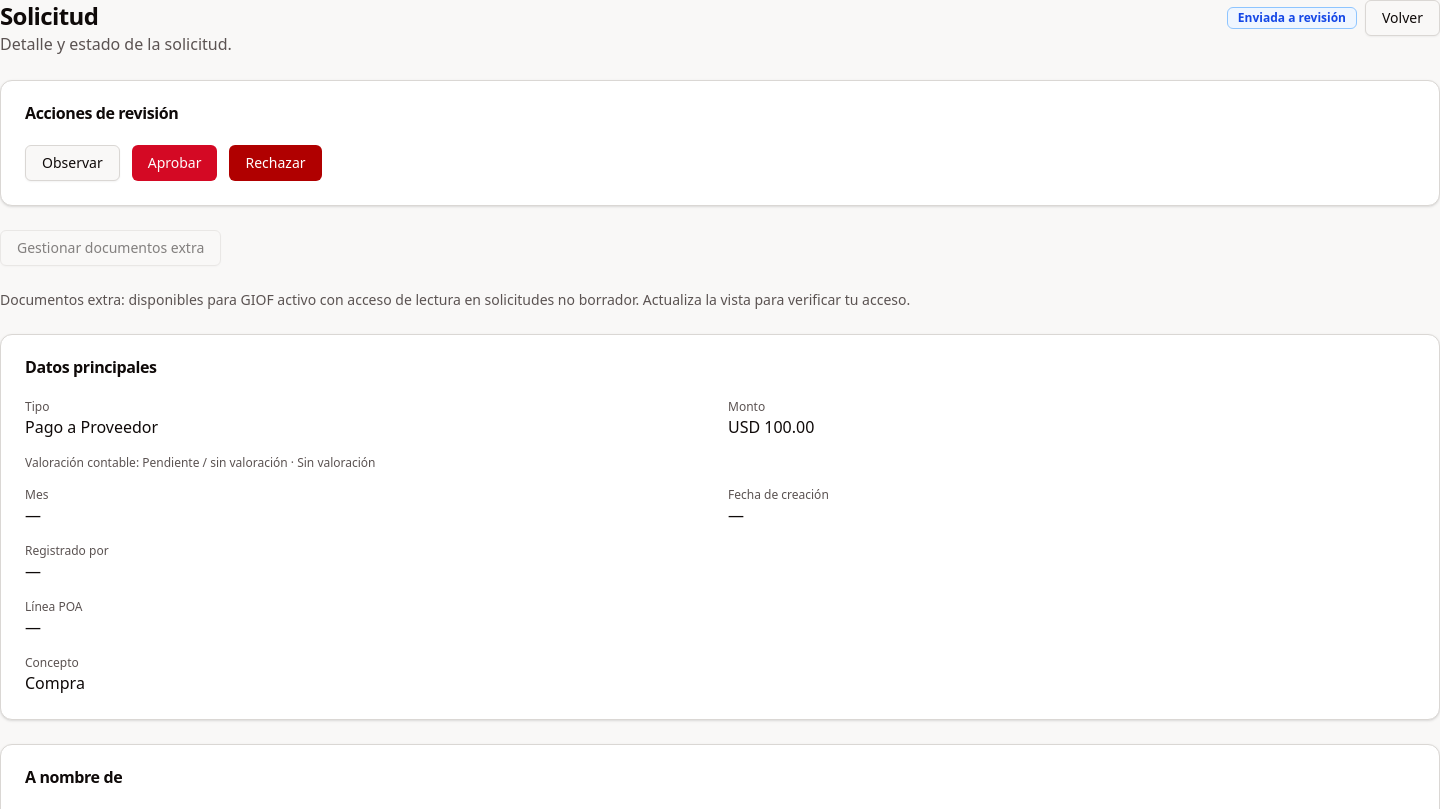
ordinary USD approval manual FX › cancels without approval and resets the manual form on reopen
Click the button "Aprobar" at (175, 163), box [132,145,218,181]
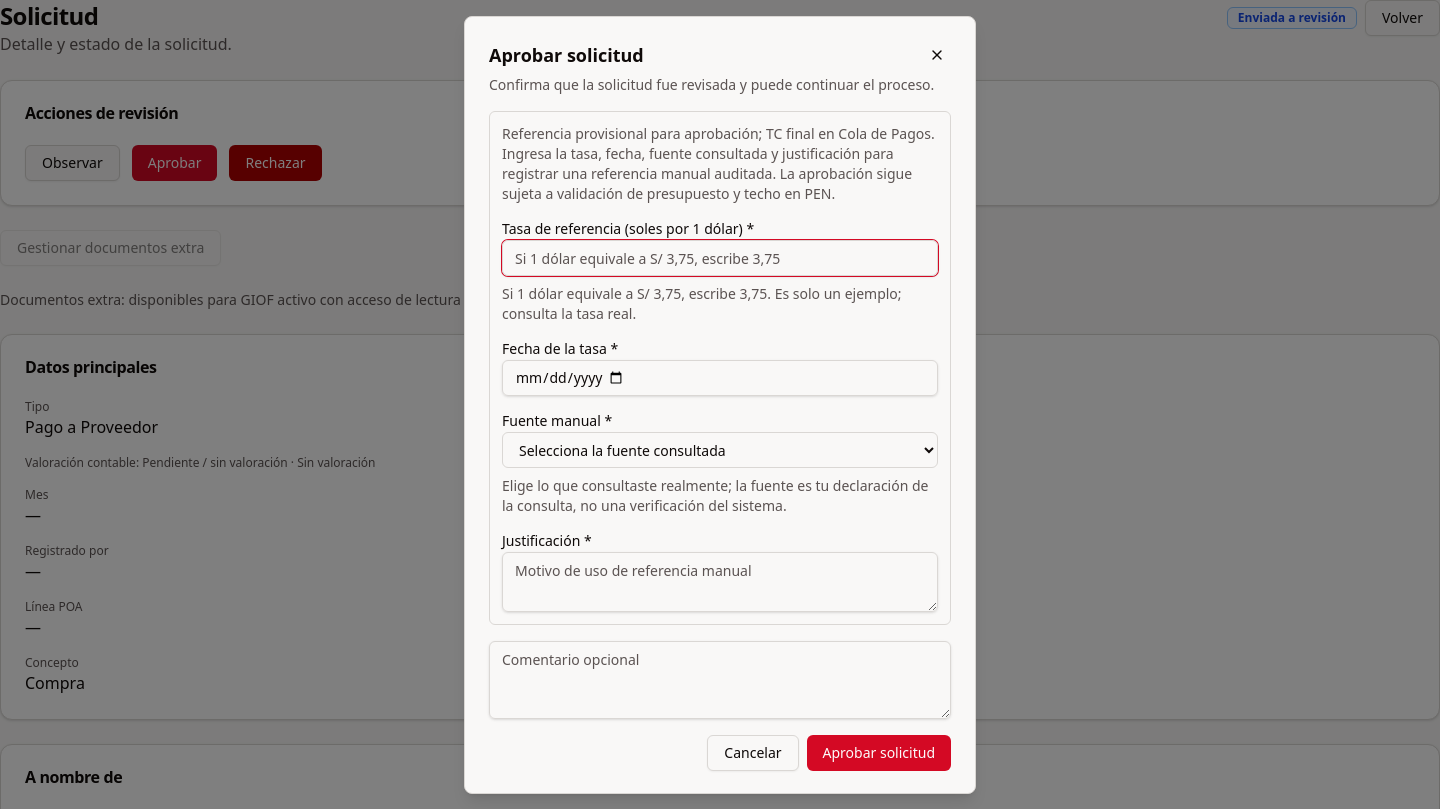
Type "3.805" into the field labelled "Tasa de referencia (soles por 1 dólar) *" at (720, 258), box [502,240,938,276]
Type "2026-09-01" into the date field labelled "Fecha de la tasa *" at (720, 378), box [502,360,938,396]
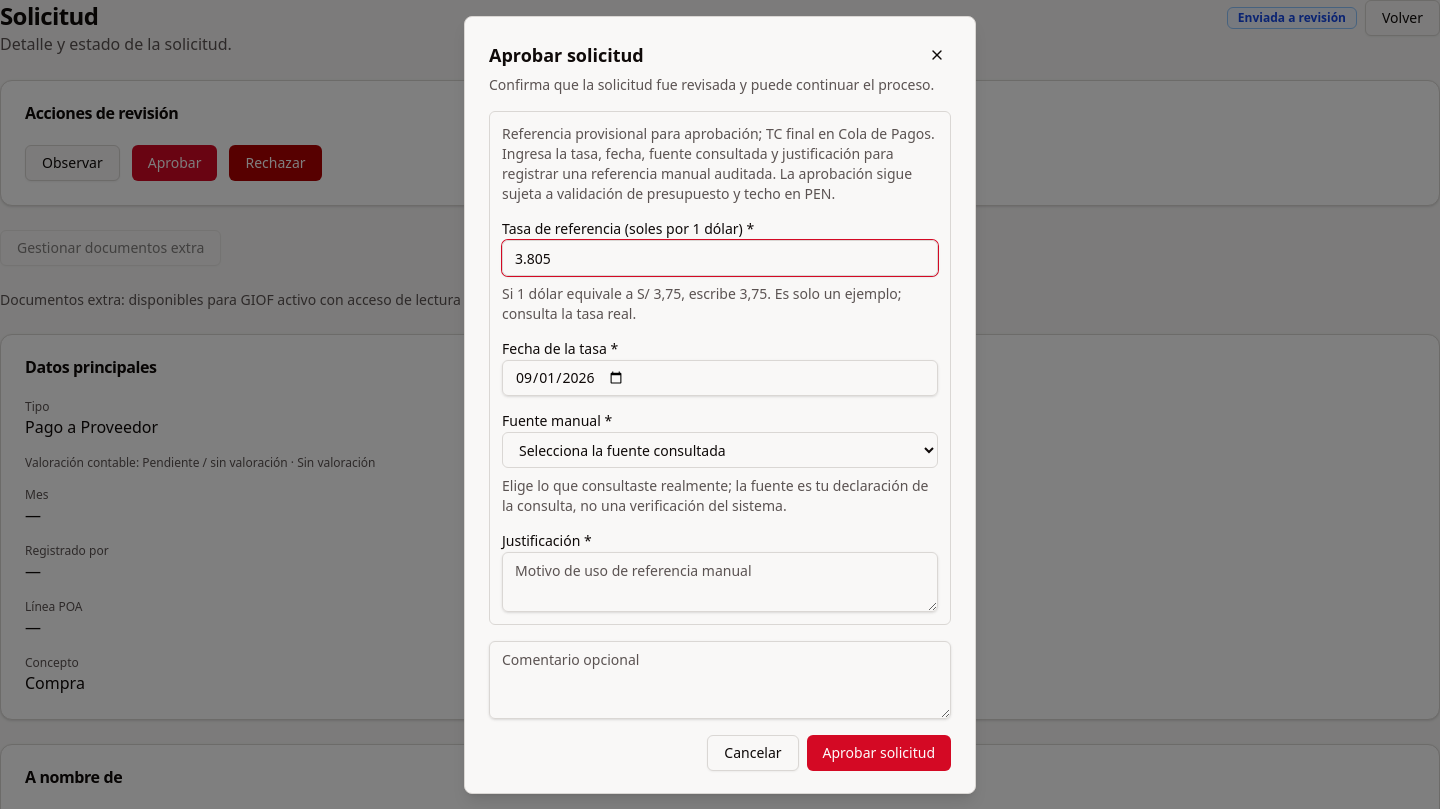
Select "Banco/entidad financiera (documento consultado)" in the dropdown labelled "Fuente manual *" at (720, 450), box [502,432,938,468]
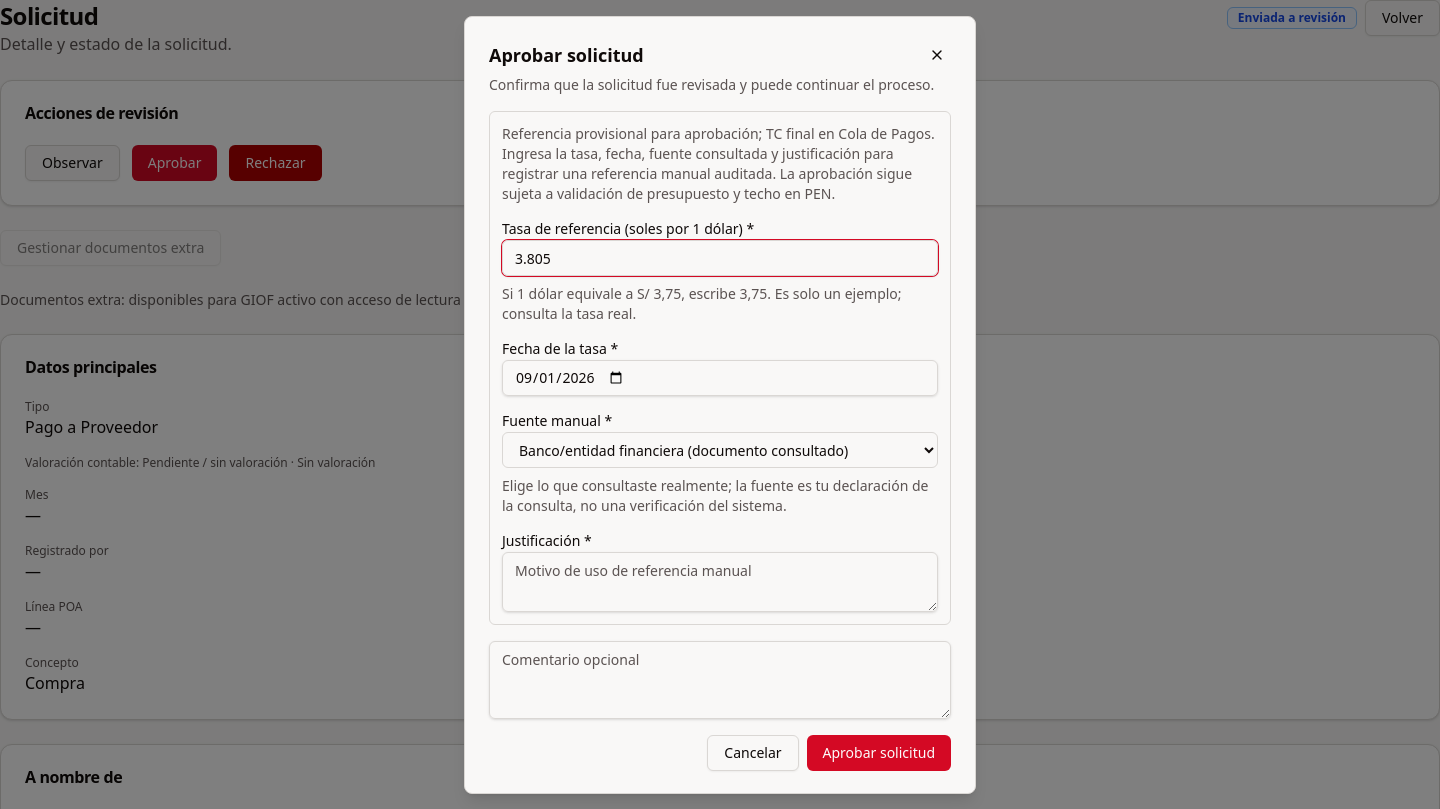
Type "BCRP no disponible" into the text box labelled "Justificación *" at (720, 582), box [502,552,938,612]
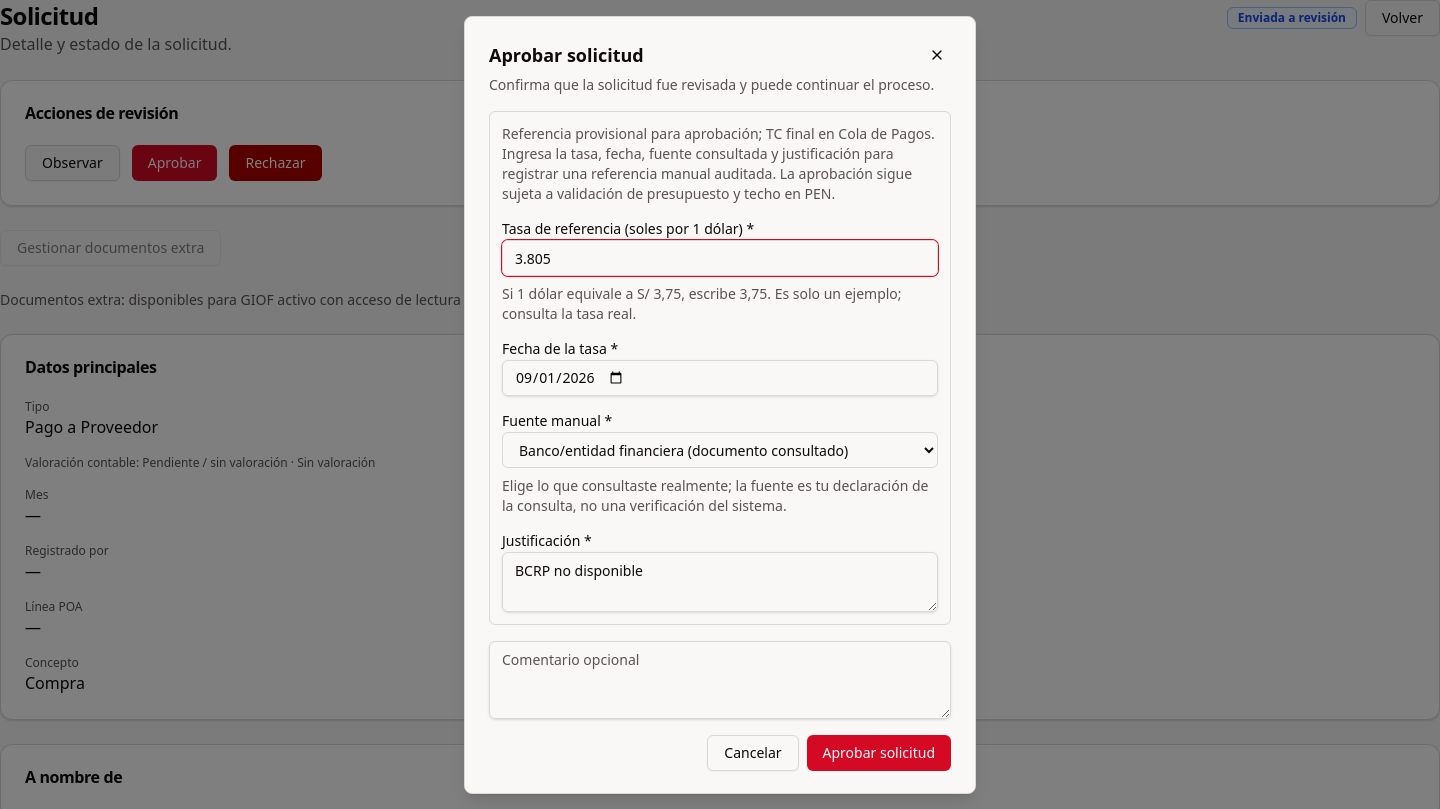
Click the button "Cancelar" at (753, 753), box [707,735,798,771]
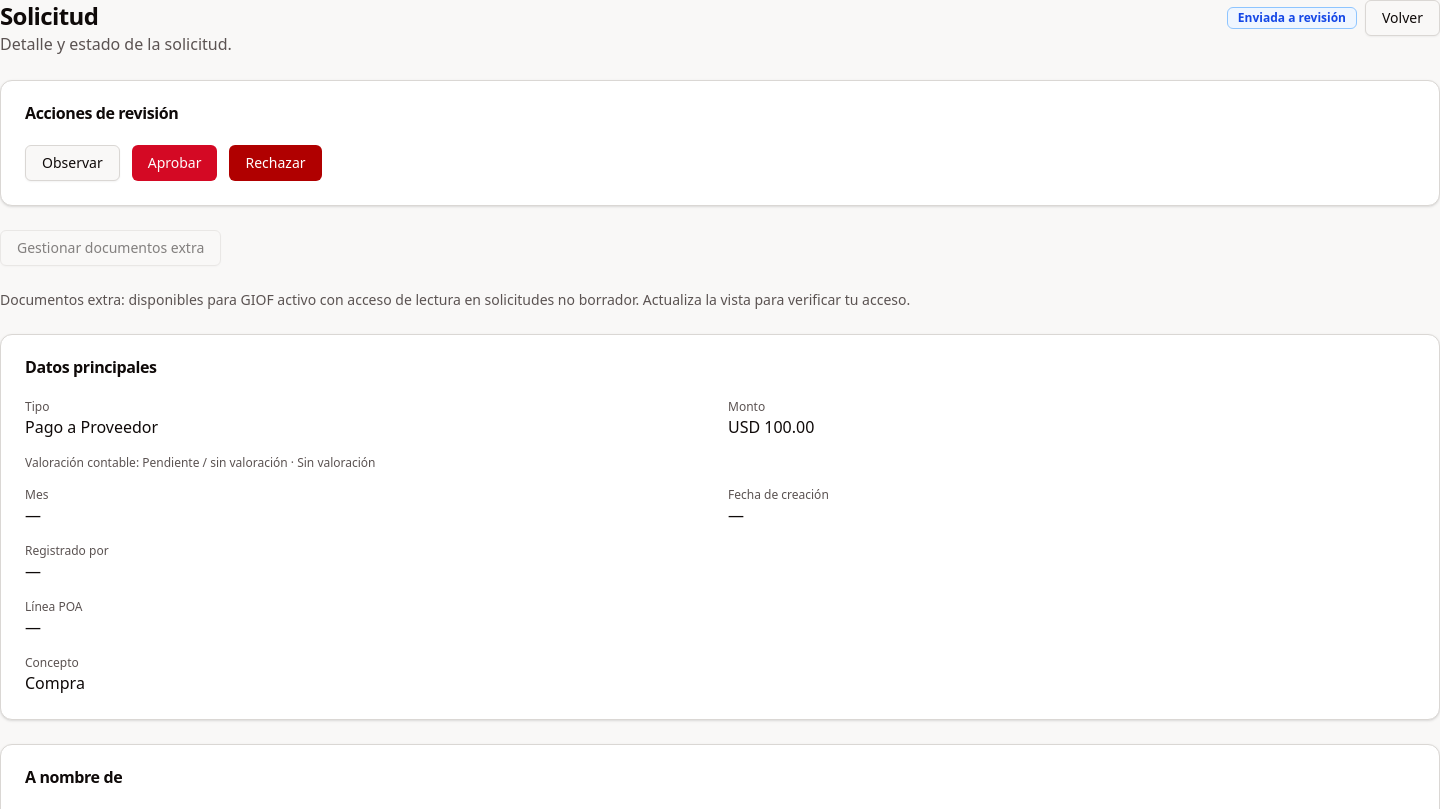
Click the button "Aprobar" at (175, 163), box [132,145,218,181]
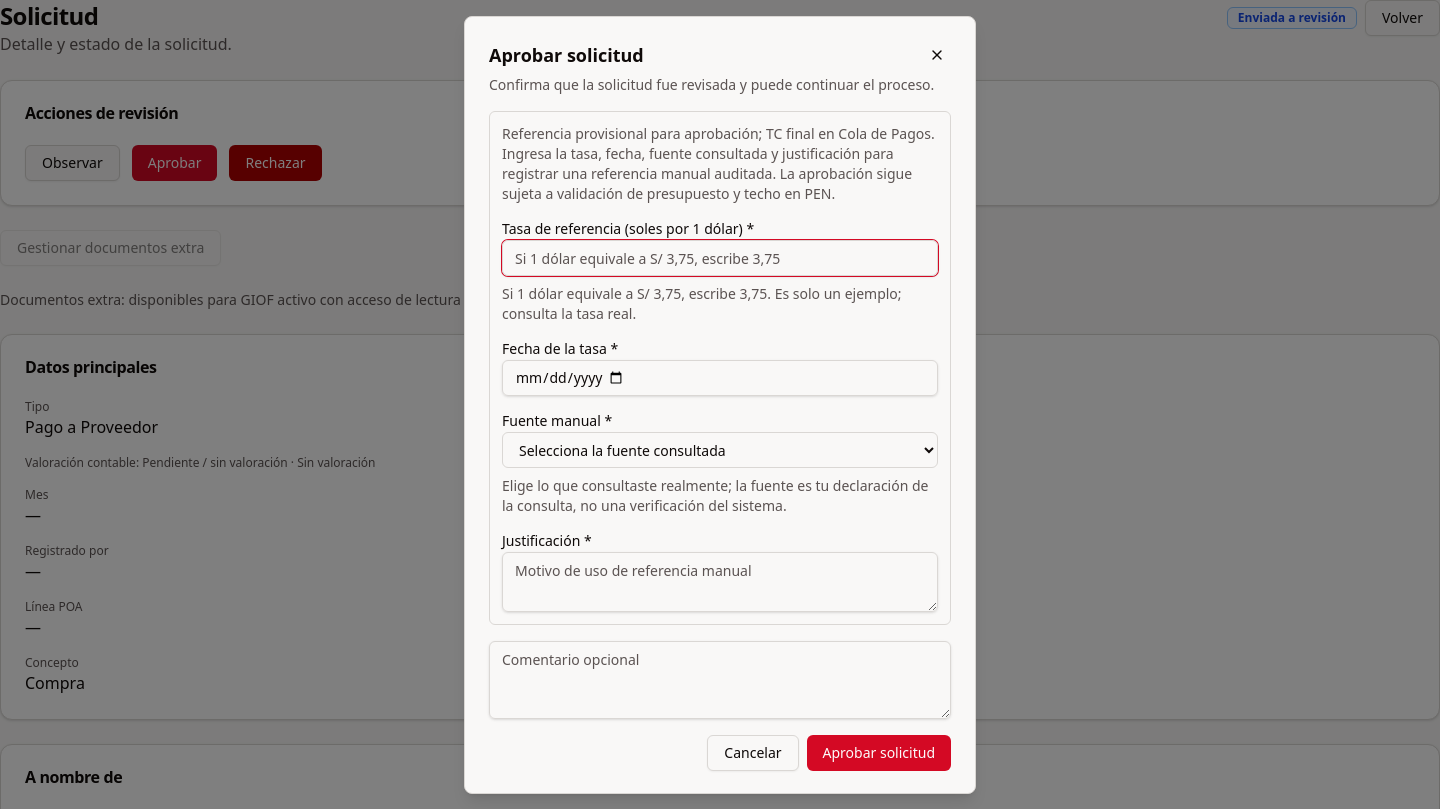
Expected: the field labelled "Tasa de referencia (soles por 1 dólar) *" is empty, [502,240,938,276]
Expected: the dropdown labelled "Fuente manual *" shows "Selecciona la fuente consultada", [502,432,938,468]
